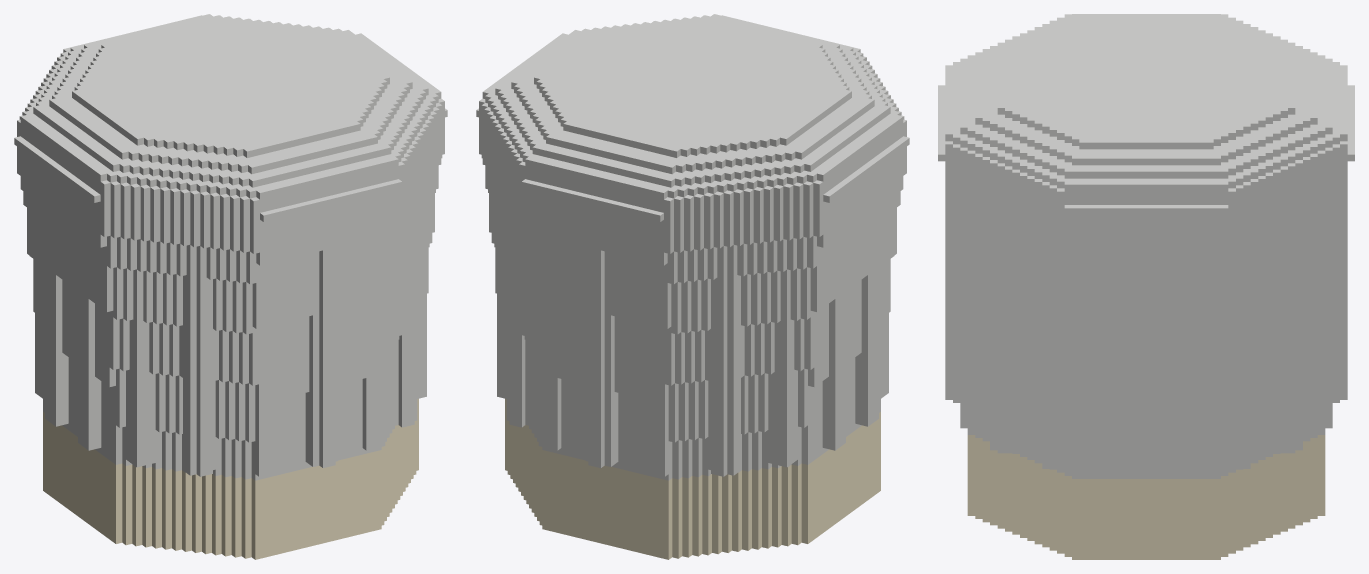
The model's file is hat_chef.glb.
3 views of the same model, side by side, from view 1: azimuth 30°, elevation 25°; view 2: azimuth 150°, elevation 25°; view 3: azimuth 270°, elevation 25° (orthographic). The views are drawn at different scales.
Visible parts, largest first — view 1: hat_chef:compound; view 2: hat_chef:compound; view 3: hat_chef:compound.
Part boxes in pixels (bbox=[...]): hat_chef:compound: bbox=[14, 14, 447, 559]; hat_chef:compound: bbox=[476, 14, 909, 559]; hat_chef:compound: bbox=[938, 14, 1354, 559].
Bounding box in the file's own units: 0.224 × 0.24 × 0.224.
